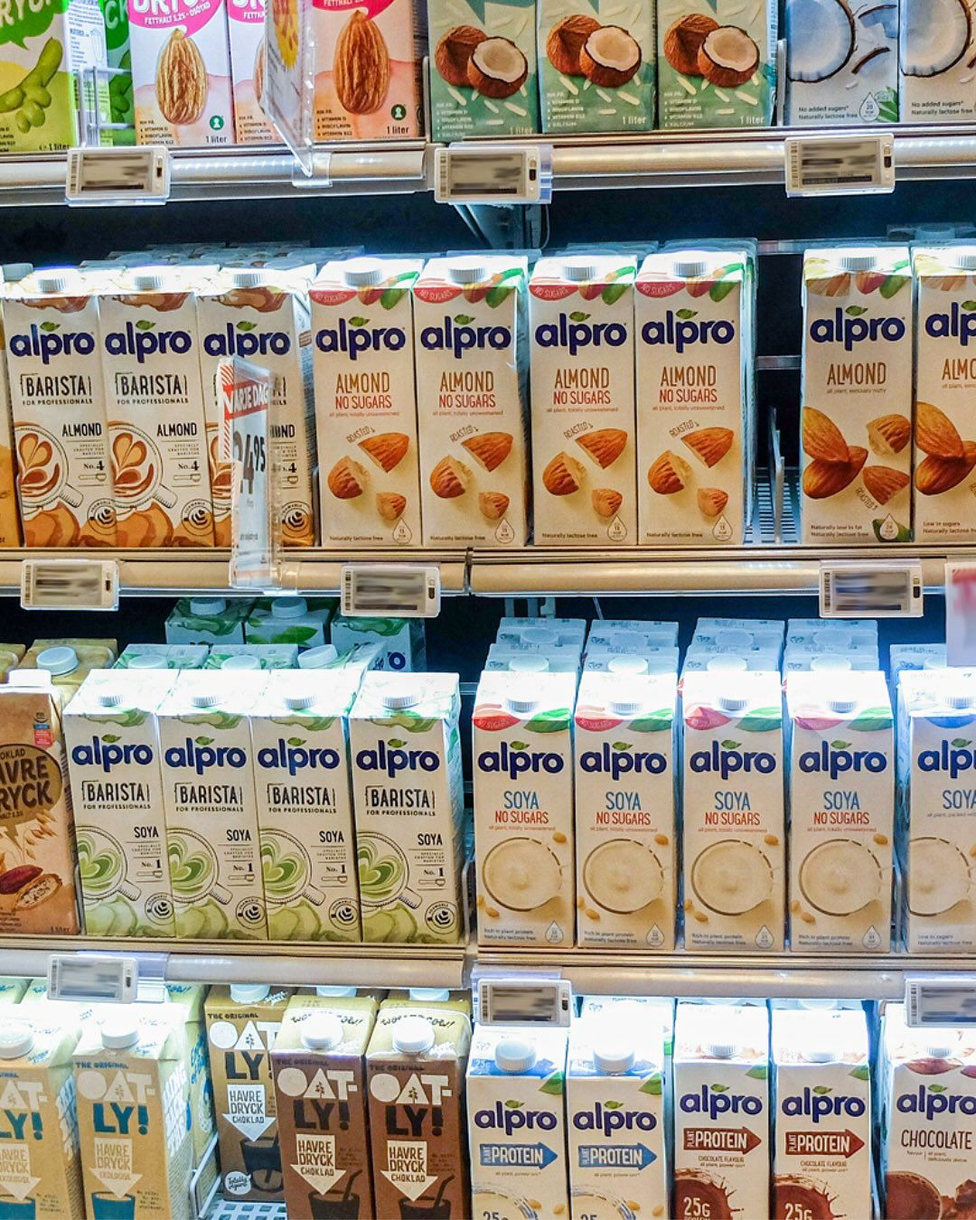milk: (637, 248, 752, 544), (413, 256, 529, 547), (6, 267, 122, 544), (157, 671, 267, 938), (685, 674, 784, 951), (475, 674, 574, 944)
